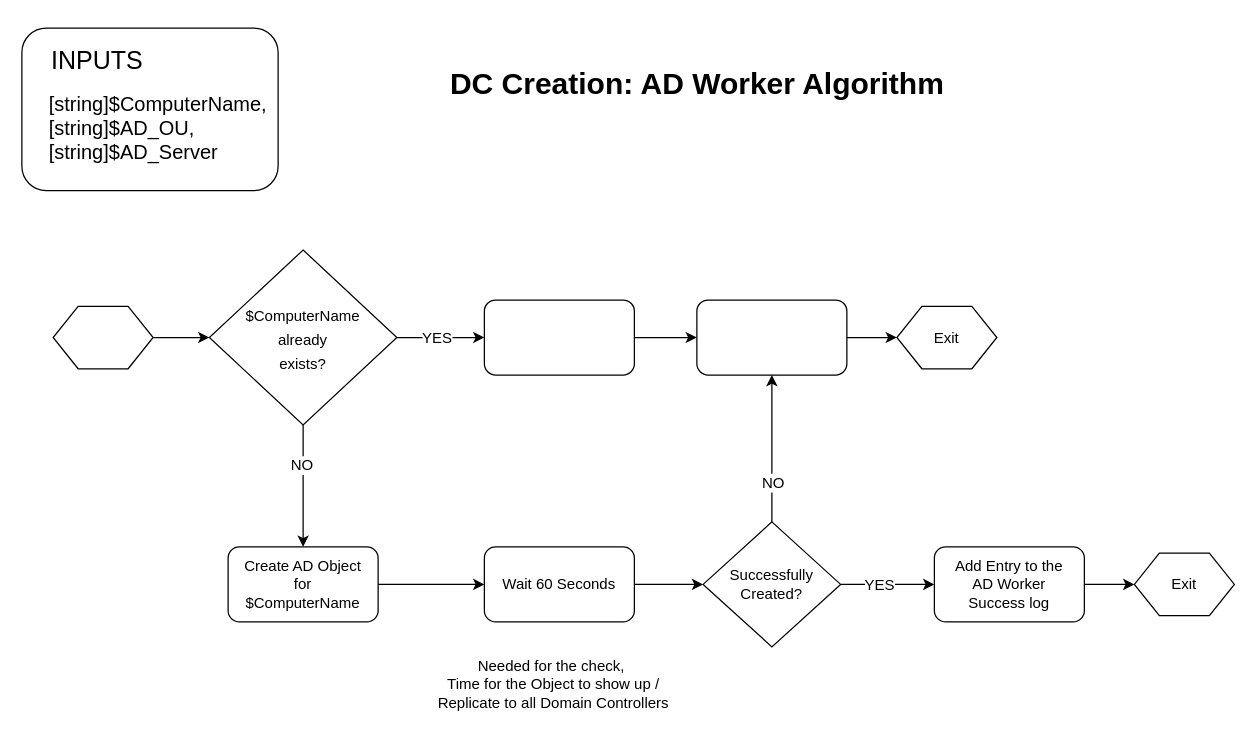
Some shapes in this 1256 by 743 pixel diagram are drawn without their labels. Here are the shapes that lost their labels. From the top down, the box of each, then its label:
(52, 305, 153, 369): Start
(483, 299, 634, 375): Get Where (CanonicalName)
(696, 299, 847, 375): Add Entry to the AD Worker FailSkip log
